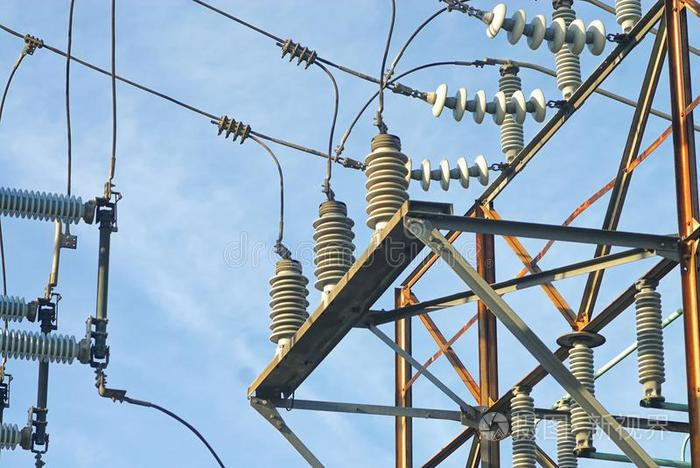insulator: (483, 4, 611, 56), (428, 84, 548, 122), (1, 320, 77, 370), (1, 181, 82, 227), (364, 146, 410, 225), (567, 346, 605, 437), (311, 210, 352, 293), (415, 149, 492, 192), (633, 291, 667, 386), (267, 266, 308, 343), (552, 9, 585, 89), (498, 74, 530, 150), (508, 395, 540, 468), (554, 416, 575, 468)
